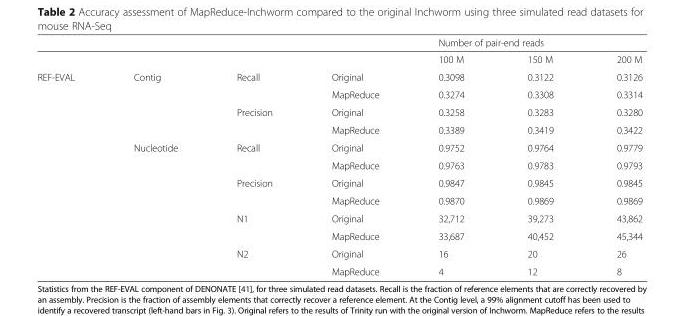table: (36, 36, 641, 276)
table column: (301, 36, 408, 276), (103, 36, 206, 276), (206, 36, 301, 276), (495, 36, 584, 276), (408, 36, 495, 276), (36, 36, 103, 276), (584, 36, 641, 276)
table column header: (36, 36, 641, 67)
table row: (36, 67, 641, 85), (36, 85, 641, 103), (36, 120, 641, 138), (36, 138, 641, 156), (36, 173, 641, 191), (36, 191, 641, 209), (36, 226, 641, 244), (36, 244, 641, 262), (36, 50, 641, 67), (36, 103, 641, 120), (36, 156, 641, 173), (36, 209, 641, 226), (36, 36, 641, 50), (36, 262, 641, 276)
table spanning cell: (36, 67, 103, 276), (103, 67, 206, 138), (103, 138, 206, 209), (206, 67, 301, 103), (206, 173, 301, 209), (206, 103, 301, 138), (206, 138, 301, 173), (206, 209, 301, 244), (408, 36, 641, 50), (206, 244, 301, 276)
